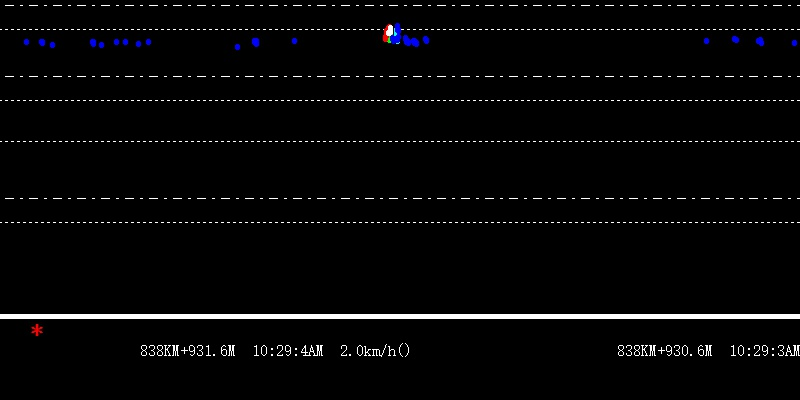face_2: (380, 21, 401, 45)
star: (27, 321, 45, 338)
